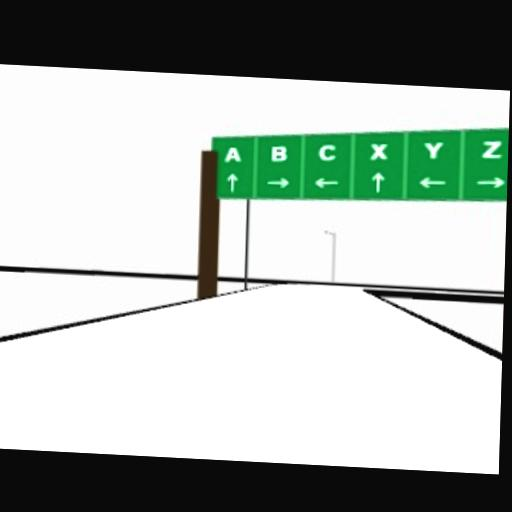A: (224, 146, 240, 163)
B: (270, 143, 286, 162)
C: (317, 143, 335, 162)
Left: (418, 175, 447, 188), (313, 177, 337, 189)
Right: (475, 175, 504, 188), (264, 176, 290, 189)
Straight: (371, 172, 385, 192), (226, 172, 238, 193)
X: (369, 142, 387, 159)
Y: (423, 140, 444, 159)
Z: (481, 138, 504, 159)
